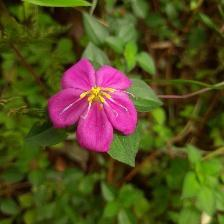malabar melastome: (46, 57, 142, 157)
